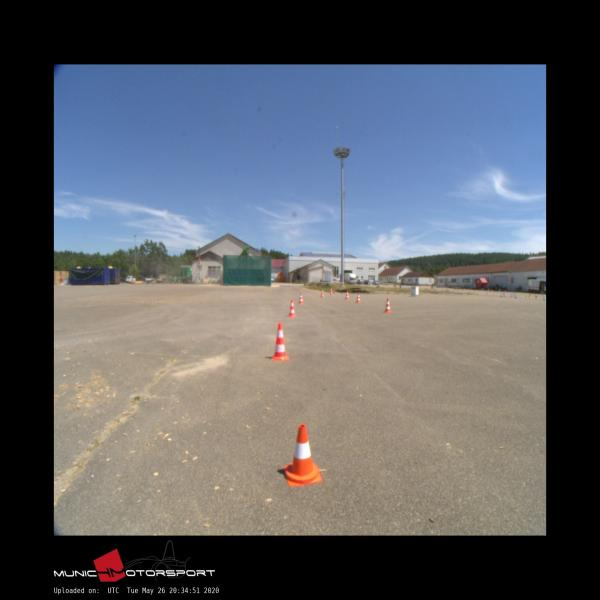large_orange_cone: (272, 323, 288, 360), (288, 300, 296, 317), (384, 298, 391, 312), (298, 292, 304, 304), (356, 292, 361, 302), (345, 290, 350, 300), (320, 289, 324, 298), (330, 287, 334, 295)
orange_cone: (283, 424, 321, 486)
